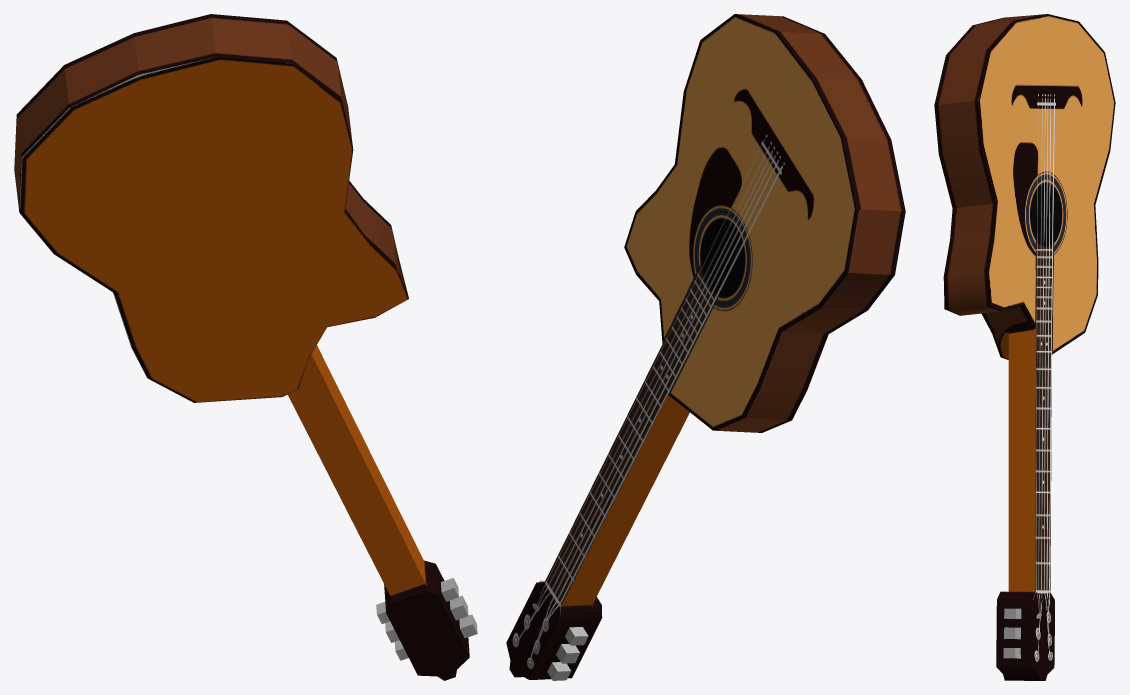
Rendered from Guitarra3_000002.obj.
3 renders of one model, left to right at view 1: azimuth 30°, elevation 25°; view 2: azimuth 150°, elevation 25°; view 3: azimuth 270°, elevation 25°, orthographic. The views are drawn at different scales.
Parts seen in each view (by area): view 1: Guitarra_2:pPlane4; view 2: Guitarra_2:pPlane4; view 3: Guitarra_2:pPlane4.
Boxes of the visible parts, left/top/right/bottom form: Guitarra_2:pPlane4: left=14, top=14, right=477, bottom=680; Guitarra_2:pPlane4: left=506, top=14, right=905, bottom=680; Guitarra_2:pPlane4: left=934, top=14, right=1115, bottom=680.
Bounding box in the file's own units: 7.39 × 11.87 × 3.41.
